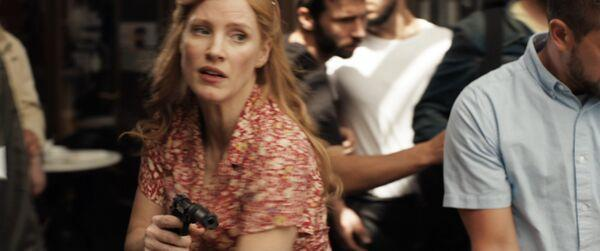Gun: (165, 193, 218, 233)
